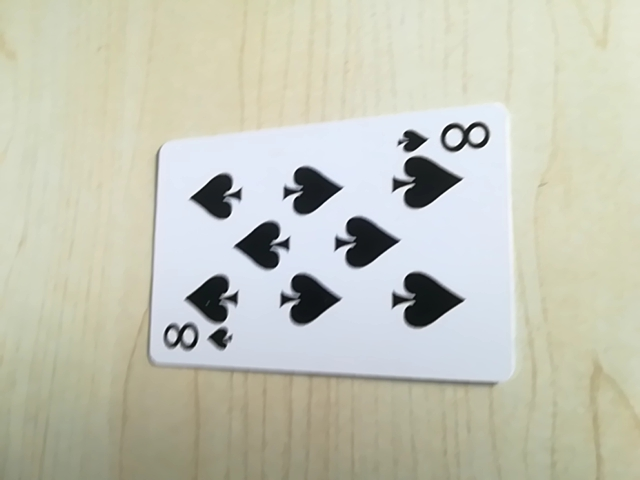ht 8: (394, 116, 499, 159), (157, 319, 236, 361)
